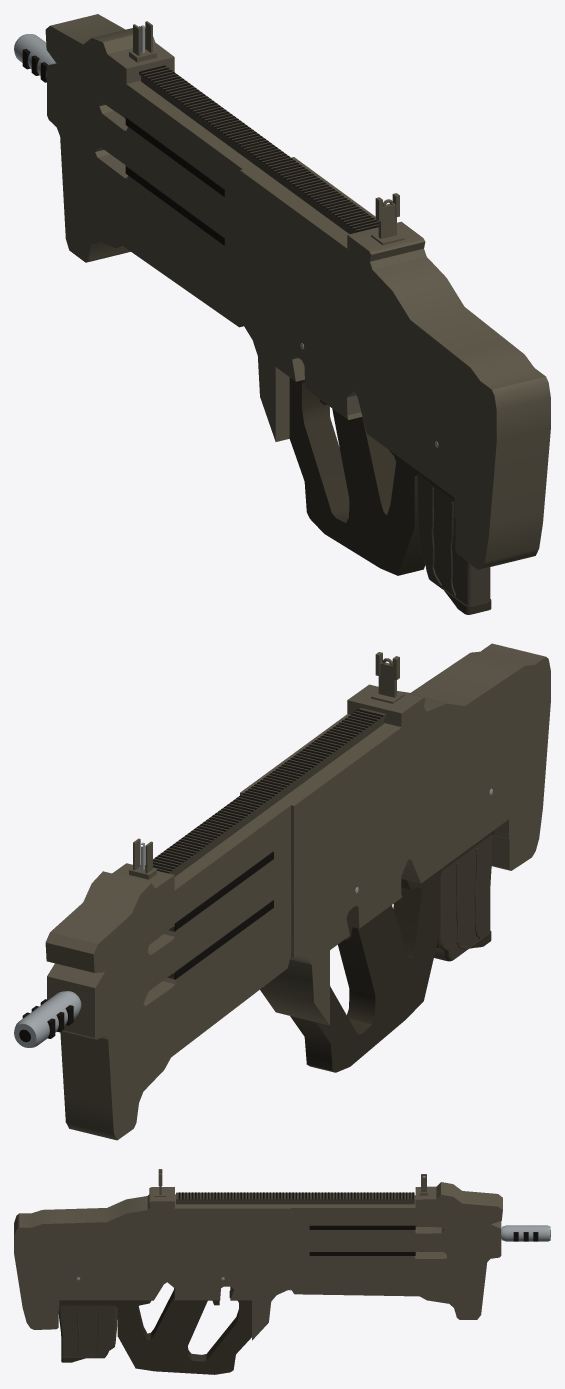
The model's file is ar-salt.glb.
3 views of the same model, one above another, from view 1: azimuth 30°, elevation 25°; view 2: azimuth 150°, elevation 25°; view 3: azimuth 270°, elevation 25° (orthographic). The views are drawn at different scales.
Visible parts, largest first — view 1: SM_Body, SM_Mag, SM_Hider, SM_IronRear, SM_IronFront; view 2: SM_Body, SM_Mag, SM_Hider, SM_IronRear, SM_IronFront; view 3: SM_Body, SM_Mag, SM_Hider.
Part boxes in pixels (x1=…): SM_Body: x1=45, y1=14, x2=550, y2=575; SM_Mag: x1=417, y1=473, x2=491, y2=614; SM_Hider: x1=14, y1=34, x2=55, y2=82; SM_IronRear: x1=371, y1=193, x2=404, y2=245; SM_IronFront: x1=129, y1=21, x2=156, y2=62; SM_Body: x1=45, y1=643, x2=550, y2=1140; SM_Mag: x1=434, y1=834, x2=492, y2=961; SM_Hider: x1=14, y1=991, x2=81, y2=1047; SM_IronRear: x1=371, y1=652, x2=404, y2=703; SM_IronFront: x1=129, y1=838, x2=156, y2=879; SM_Body: x1=14, y1=1182, x2=502, y2=1374; SM_Mag: x1=58, y1=1305, x2=117, y2=1362; SM_Hider: x1=501, y1=1225, x2=550, y2=1241.
Bounding box in the file's own units: 0.0558 × 0.3529 × 0.8604.
